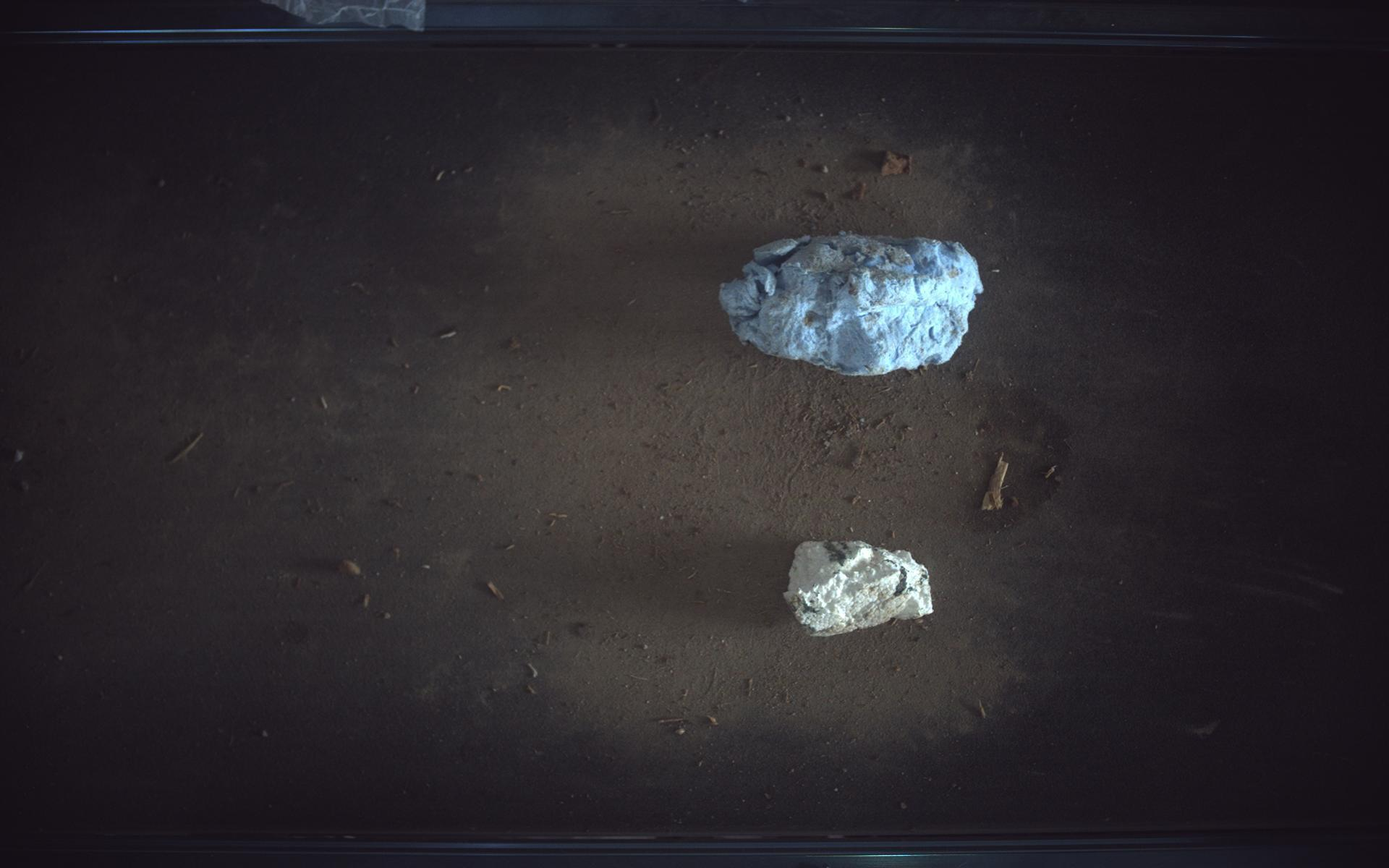foam: (721, 233, 985, 375), (785, 542, 935, 637)
